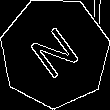N_SE: (24, 20, 85, 85)
